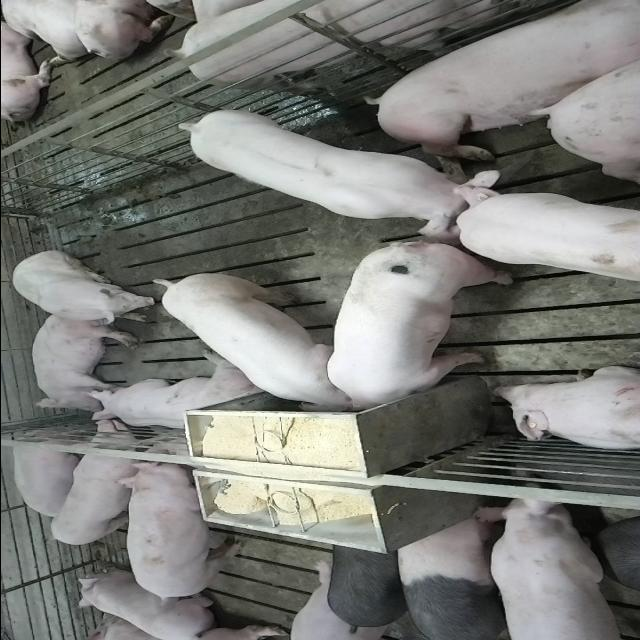Feeding: (325, 246, 514, 420), (144, 268, 354, 410)
Lateral_lying: (29, 310, 139, 414)
Sitting: (7, 250, 158, 324)
Standing: (173, 0, 617, 99), (167, 105, 498, 236), (482, 494, 640, 638), (454, 176, 640, 282), (122, 461, 252, 604), (392, 514, 514, 638), (324, 537, 412, 633)
Sternal_lying: (86, 357, 266, 432), (489, 365, 640, 453), (74, 572, 220, 638)
